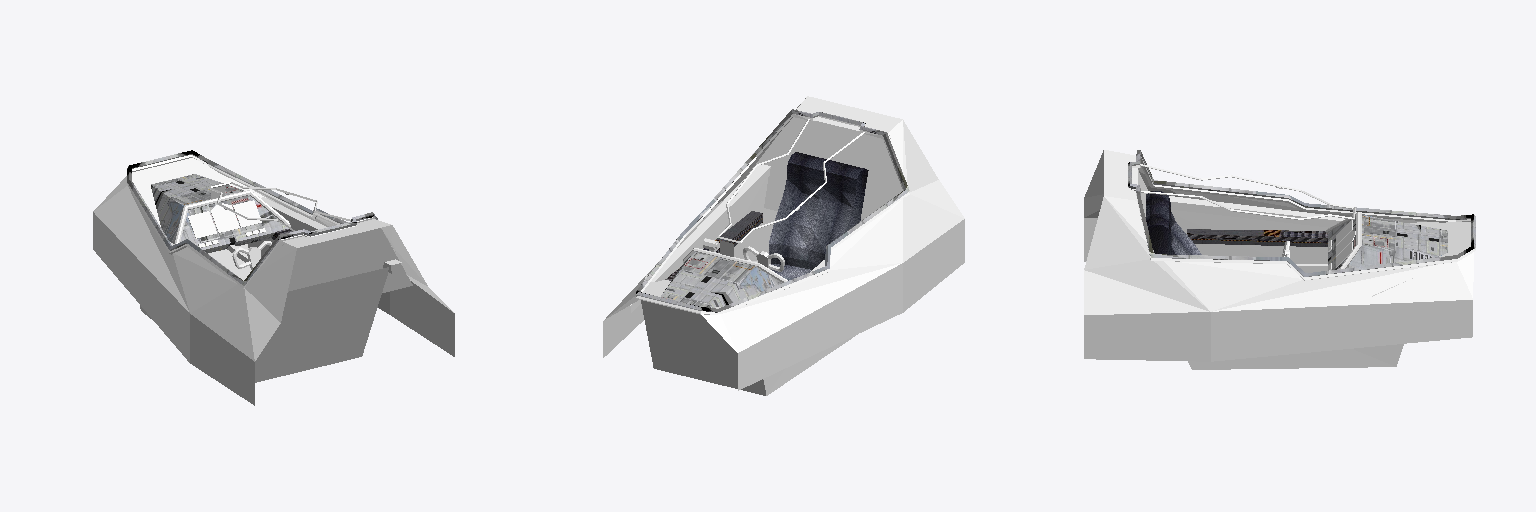
The picture shows the model from 3 angles: view 1: azimuth 30°, elevation 25°; view 2: azimuth 150°, elevation 25°; view 3: azimuth 270°, elevation 25°; orthographic projection.
Visible parts, largest first — view 1: panels, ashphalt, wpanels; view 2: panels, ashphalt, blackleather, wpanels, angar; view 3: panels, ashphalt, wpanels, angar, blackleather.
Boxes of the visible parts, <box> form: panels: <box>93,176,454,405</box>; ashphalt: <box>127,155,412,382</box>; wpanels: <box>127,150,377,285</box>; panels: <box>603,96,964,390</box>; ashphalt: <box>630,114,909,395</box>; blackleather: <box>769,152,868,280</box>; wpanels: <box>636,109,909,312</box>; angar: <box>665,211,762,280</box>; panels: <box>1084,150,1473,361</box>; ashphalt: <box>1128,157,1475,369</box>; wpanels: <box>1128,150,1475,276</box>; angar: <box>1187,229,1327,246</box>; blackleather: <box>1146,191,1201,254</box>.
Bounding box in the file's own units: 7.4 × 5.88 × 12.48.
7 materials, 3 textured.